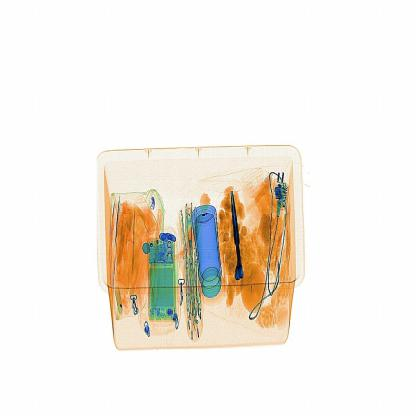gun: (221, 187, 251, 285)
